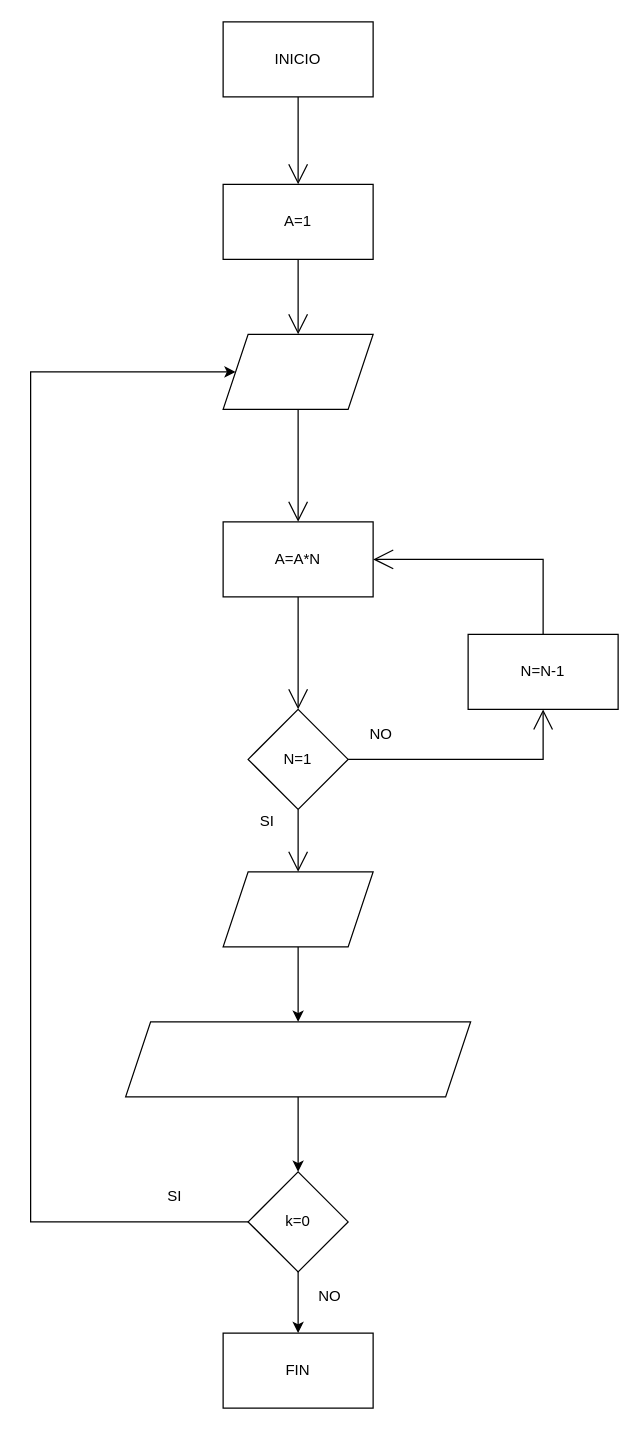
The diagram is 640 pixels wide and 1430 high, and some of its shapes have lost their labels. Each missing label, with the centre of its shape:
INTRODUCE 0 PARA CALCULAR OTRO NÚMERO, O 1 PARA TERMINAR - K: (297,1059)
MOSTRAR A: (297,909)
NÚMERO A FACTORIZAR -N: (297,371)
